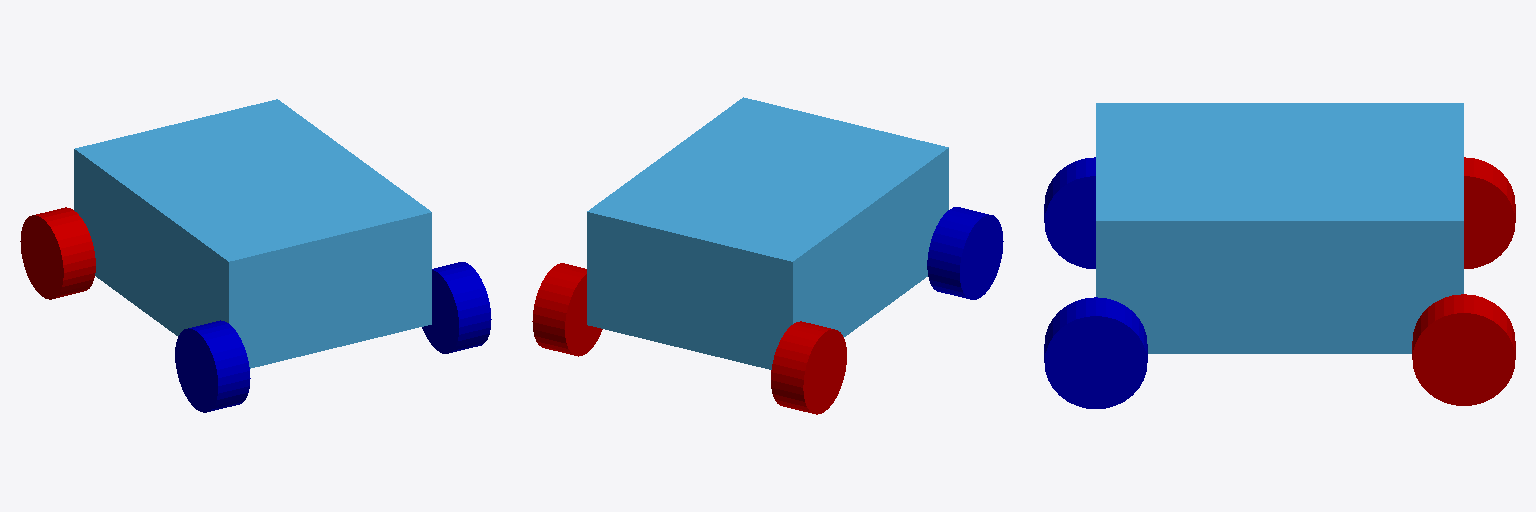
URDF robot description (Unicycle):
<?xml version="1.0"?>
<robot name="Unicycle">
  <link name="base_link"/>
  <link name="carbody">
			<visual>
				<origin xyz="0 0 0" rpy="0 0 0" />
				<geometry>
					<box size="0.38 0.5 0.2"/>
				</geometry>
		 </visual>
     <!-- Leaving inertial stuff as is right now -->
			<inertial>
				<mass value="10"/>
				<inertia ixx="0.4" ixy="0.0" ixz="0.0" iyy="0.4" iyz="0.0" izz="0.2"/>
			</inertial>
  </link>
<link name="backwheel1">
    <visual>
      <geometry>
        <cylinder length="0.06" radius="0.07"/>
      </geometry>
      <material name="blue">
        <color rgba="0 0 0.8 1"/>
      </material>
    </visual>
  </link>
  <link name="backwheel2">
    <visual>
      <geometry>
        <cylinder length="0.06" radius="0.07"/>
      </geometry>
      <material name="blue">
        <color rgba="0 0 0.8 1"/>
      </material>
    </visual>
  </link>
  <link name="frontwheel1">
    <visual>
      <geometry>
        <cylinder length="0.06" radius="0.07"/>
      </geometry>
      <material name="red">
        <color rgba="0.8 0 0 1"/>
      </material>
    </visual>
  </link>
  <link name="frontwheel2">
    <visual>
      <geometry>
        <cylinder length="0.06" radius="0.07"/>
      </geometry>
      <material name="red">
        <color rgba="0.8 0 0 1"/>
      </material>
    </visual>
  </link>
  <!-- Joints -->
	<joint name="basetocarbody" type="fixed">
    <parent link="base_link"/>
    <child link="carbody"/>
    <origin rpy="0 0 0" xyz="0 0 0"/>
	</joint>
  <joint name="base_to_backwheel1" type="continuous">
    <parent link="carbody"/>
    <child link="backwheel1"/>
    <origin rpy="0 -1.5707 0" xyz="-0.22 -0.25 -0.08"/>
    <axis xyz="0 0 1"/>
  </joint>
  <joint name="base_to_frontwheel1" type="continuous">
    <parent link="carbody"/>
    <child link="frontwheel1"/>
    <origin rpy="0 -1.5707 0" xyz="-0.22 0.25 -0.08"/>
    <axis xyz="1 0 0"/>
  </joint>
  <joint name="base_to_frontwheel2" type="continuous">
    <parent link="carbody"/>
    <child link="frontwheel2"/>
    <origin rpy="0 -1.5707 0" xyz="0.22 0.25 -0.08"/>
    <axis xyz="1 0 0"/>
  </joint>
  <joint name="backwheel1_to_backwheel2" type="fixed">
    <parent link="backwheel1"/>
    <child link="backwheel2"/>
    <origin rpy="0 0 0" xyz="0 0 -0.450"/>
  </joint>
</robot>

--- Render facts (derived) ---
Views: 3 orthographic renders of the robot side by side, from view 1: azimuth 30°, elevation 25°; view 2: azimuth 150°, elevation 25°; view 3: azimuth 270°, elevation 25°.
Model Unicycle with 6 links and 5 joints (3 continuous, 2 fixed), rooted at base_link, posed all joints at 0.
Links seen in each view (by area): view 1: carbody, frontwheel1, backwheel1, backwheel2; view 2: carbody, frontwheel1, backwheel1, frontwheel2; view 3: carbody, backwheel2, frontwheel2, backwheel1, frontwheel1.
Boxes of the visible links, x1,y1,x2,y2 form: carbody: [74, 99, 431, 368]; frontwheel1: [20, 207, 95, 299]; backwheel1: [175, 320, 250, 412]; backwheel2: [422, 262, 491, 353]; carbody: [587, 97, 948, 369]; frontwheel1: [771, 321, 846, 414]; backwheel1: [927, 207, 1003, 299]; frontwheel2: [532, 263, 602, 356]; carbody: [1096, 103, 1463, 353]; backwheel2: [1044, 297, 1147, 408]; frontwheel2: [1412, 294, 1515, 405]; backwheel1: [1044, 157, 1095, 268]; frontwheel1: [1464, 157, 1515, 268].
Bounding box of the posed robot: 0.51 × 0.64 × 0.25 m (x, y, z).
Geometry: primitives only (box / cylinder / sphere), no mesh files.